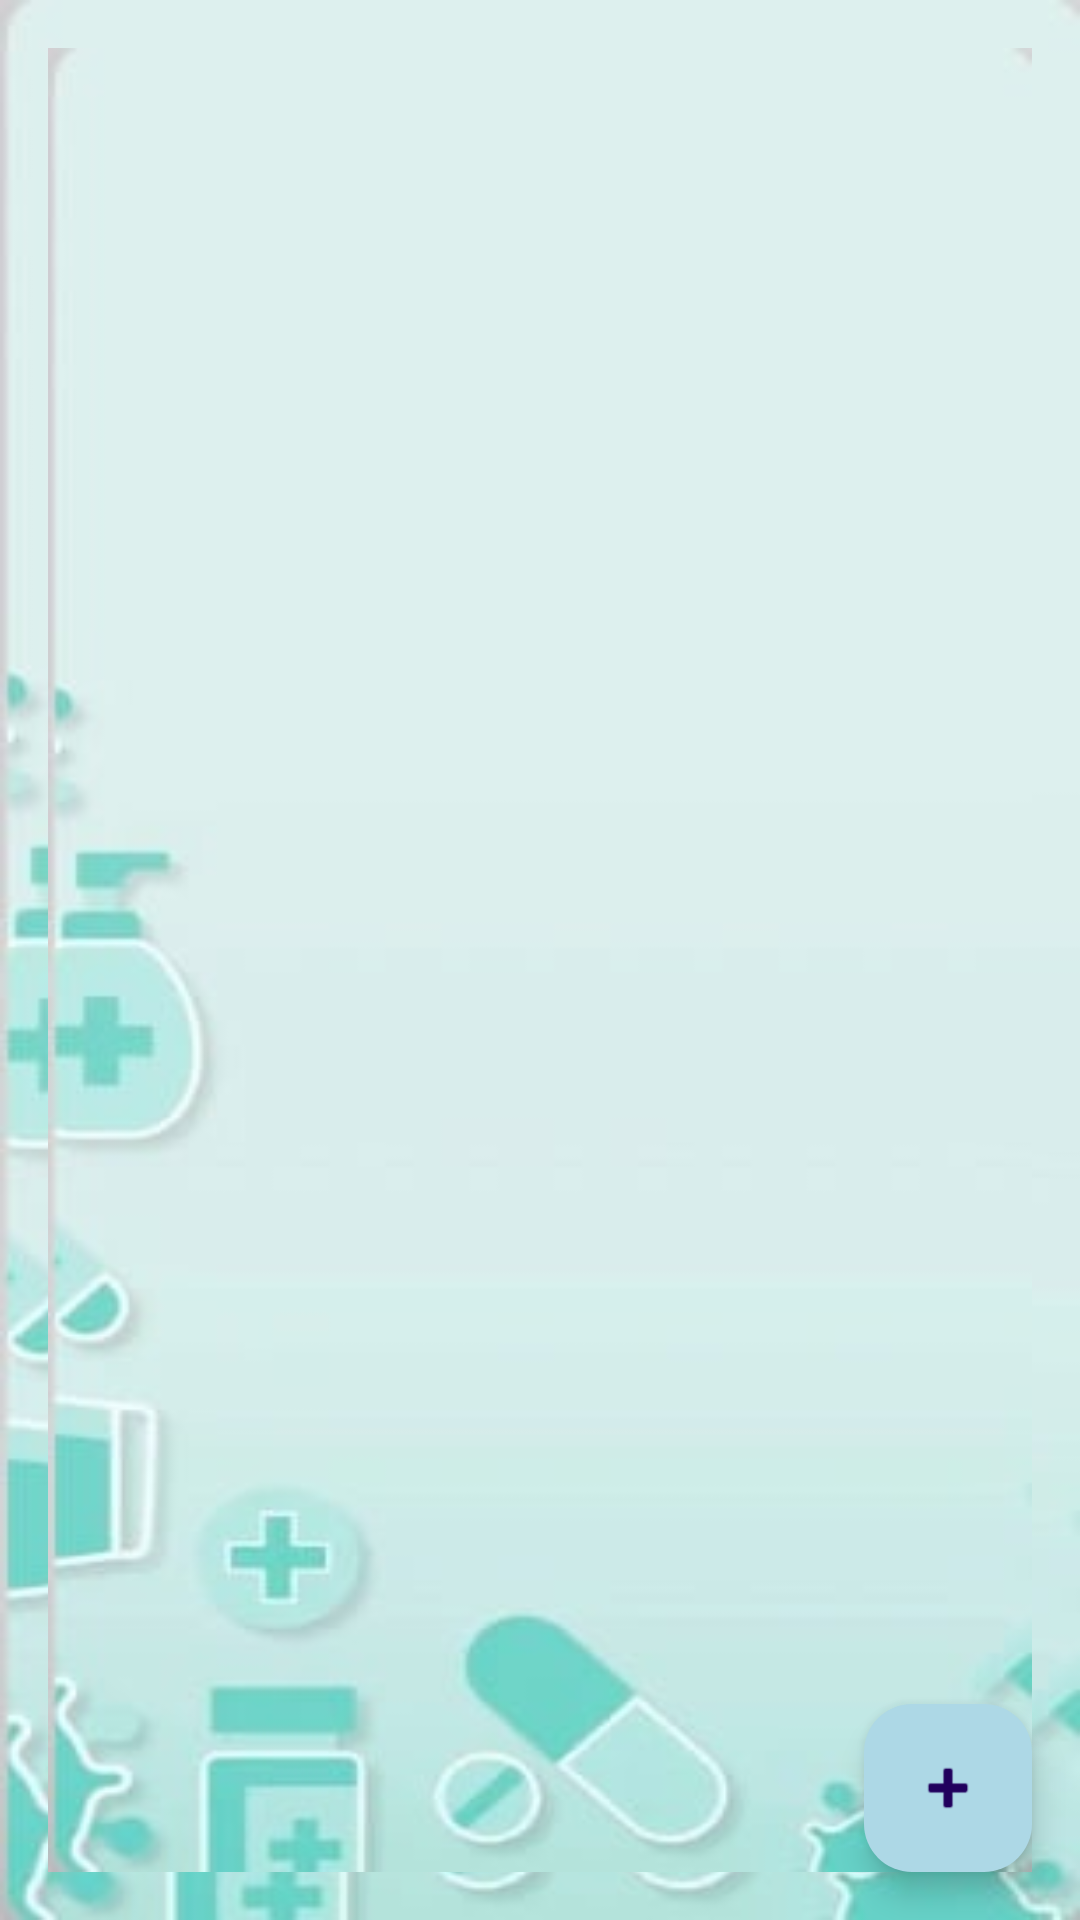

Icon click points for this 1080x1920 phone screenshot, format (x=x, y=y):
Add Medication: (x=948, y=1788)
